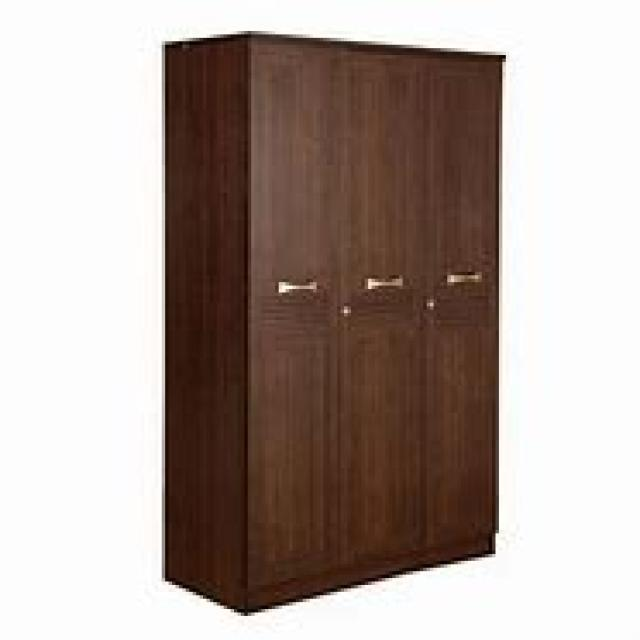dolap: (158, 28, 502, 612)
